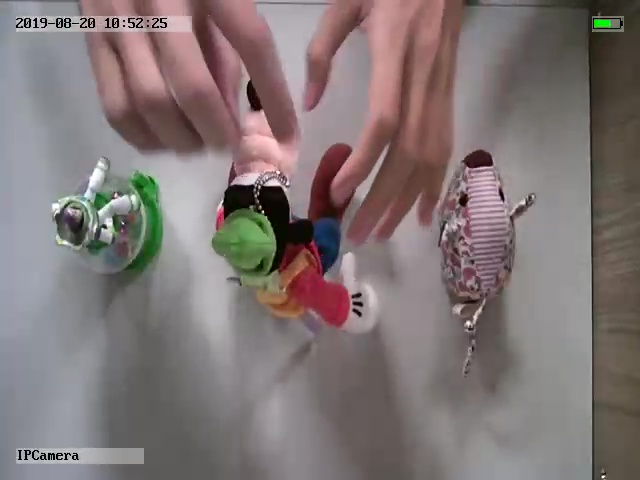buzz: (49, 156, 165, 277)
goofy: (211, 79, 378, 335)
pig: (437, 150, 535, 377)
